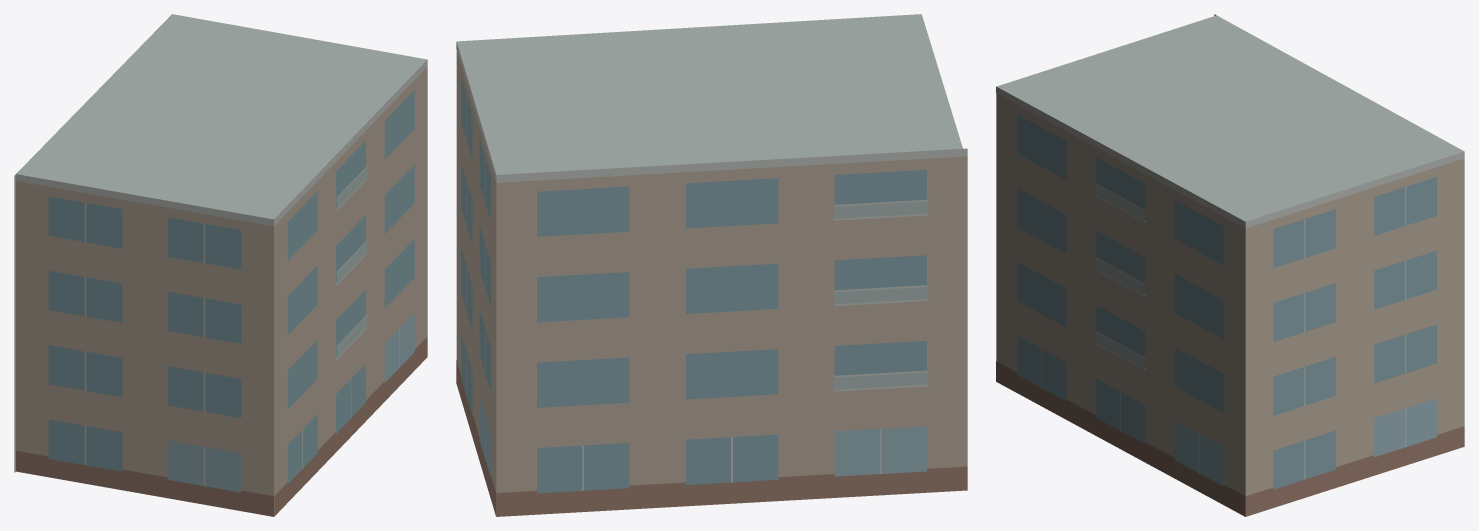
Rendered from survey-upis-32665847.glb.
3 renders of one model, left to right at view 1: azimuth 30°, elevation 25°; view 2: azimuth 150°, elevation 25°; view 3: azimuth 270°, elevation 25°, orthographic. The views are drawn at different scales.
Visible parts, largest first — view 1: survey-upis-32665847.tmp; view 2: survey-upis-32665847.tmp; view 3: survey-upis-32665847.tmp.
Part boxes in pixels (bbox=[...]): survey-upis-32665847.tmp: bbox=[14, 14, 427, 516]; survey-upis-32665847.tmp: bbox=[456, 14, 967, 516]; survey-upis-32665847.tmp: bbox=[996, 14, 1464, 516].
Size of the model in its own units: 16.01 by 10.6 by 15.25.
